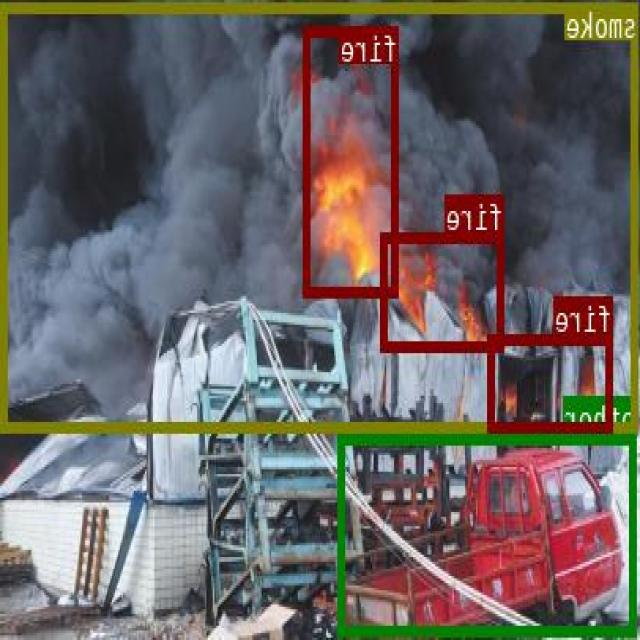fire: (304, 25, 400, 295), (381, 232, 506, 349), (490, 333, 614, 429)
other: (340, 432, 638, 634)
smoke: (3, 0, 639, 429)
